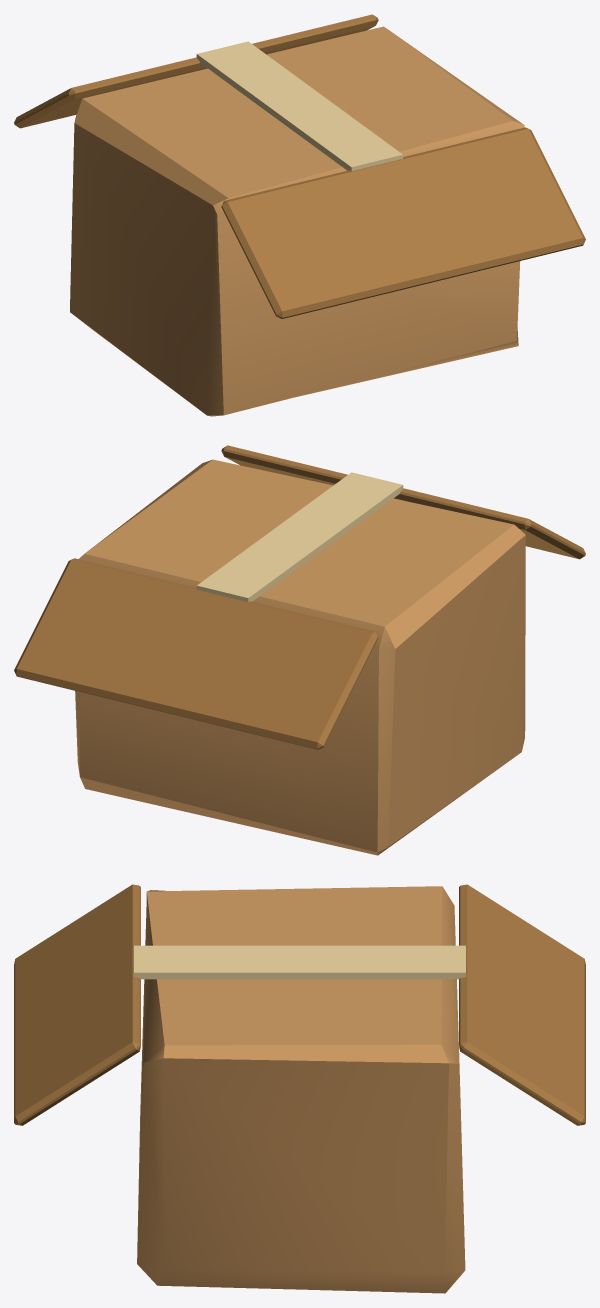
Rendered from debris_box.glb.
3 views of the same model, one above another, from view 1: azimuth 30°, elevation 25°; view 2: azimuth 150°, elevation 25°; view 3: azimuth 270°, elevation 25° (orthographic). The views are drawn at different scales.
Visible parts, largest first — view 1: debris_box_mesh; view 2: debris_box_mesh; view 3: debris_box_mesh.
Part boxes in pixels (x1,y1,x2,y2): debris_box_mesh: (14,14,585,416); debris_box_mesh: (14,445,585,855); debris_box_mesh: (14,884,585,1293).
Size of the model in its own units: 0.624 by 0.4451 by 0.8955.
Materials: 1 (1 with a texture image).
